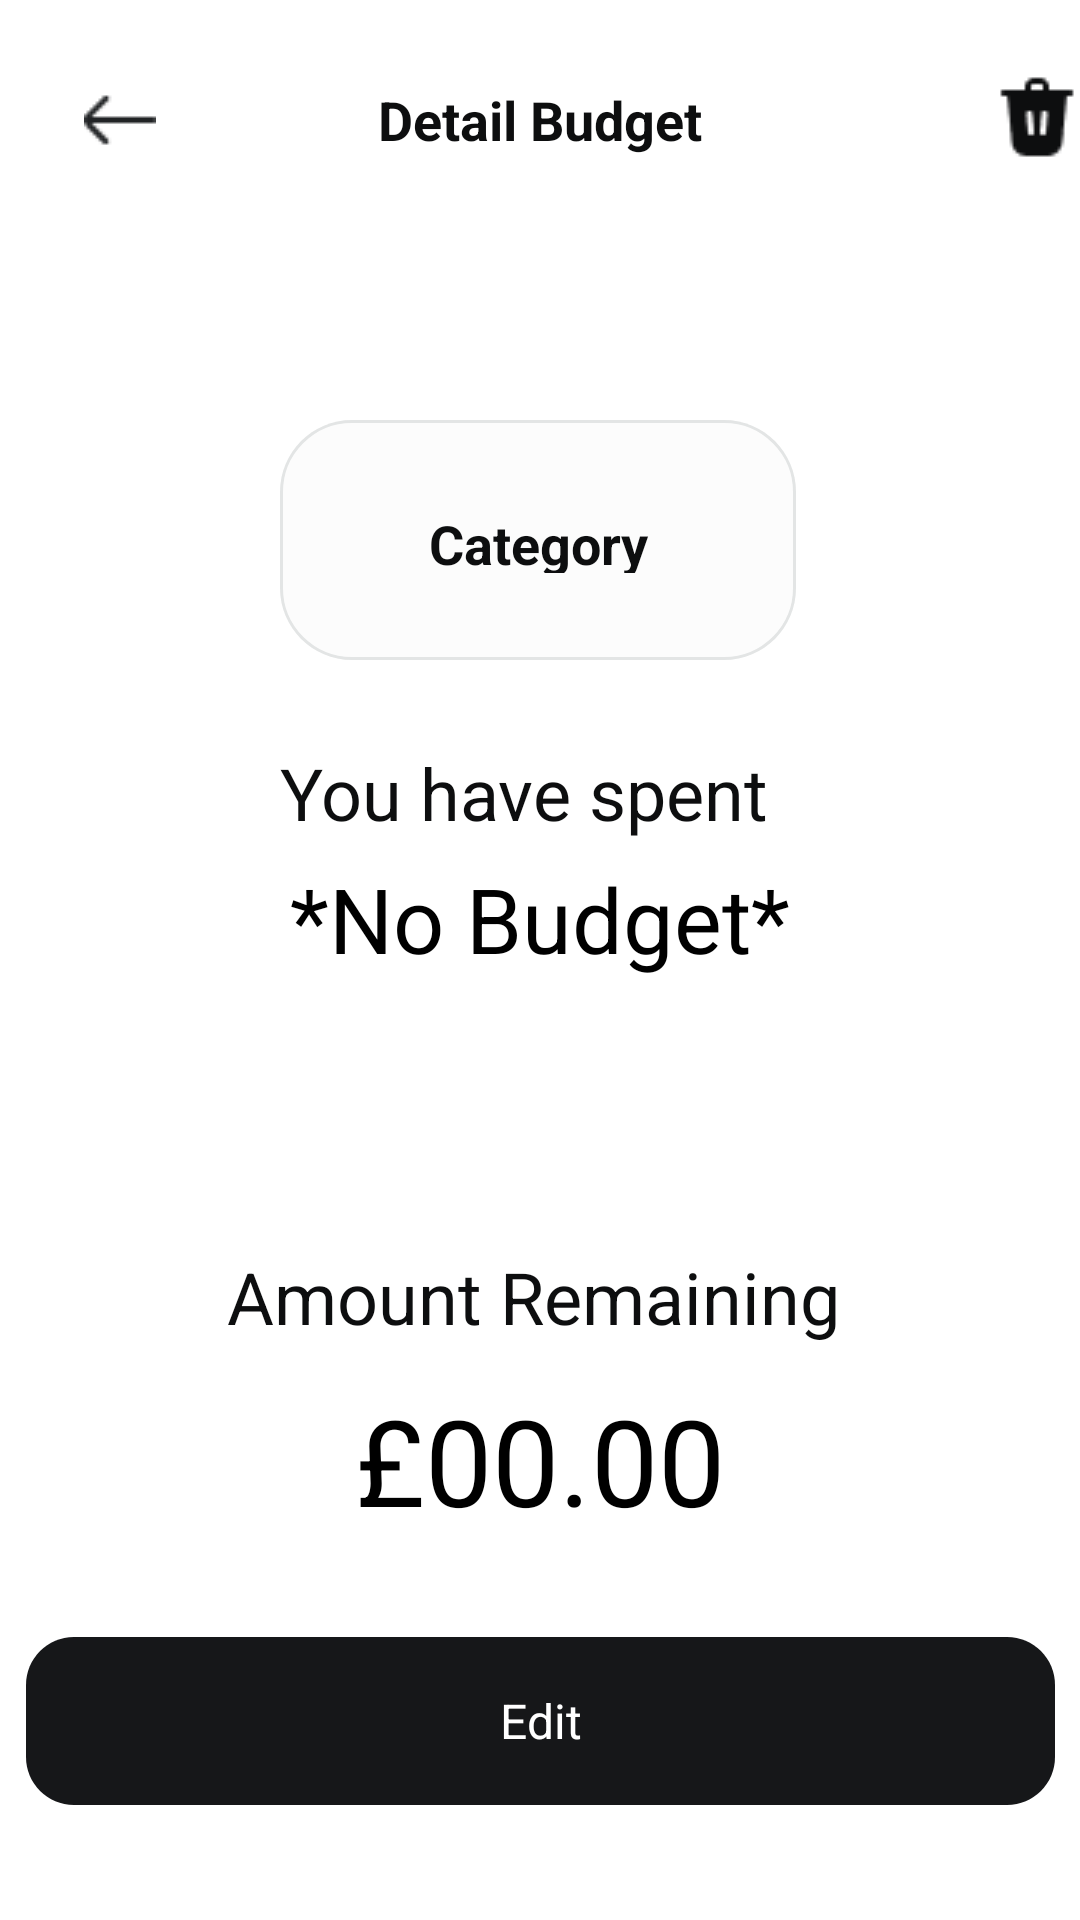

Icons on this 1080w x 1920h Android screen, each with its box as [left=x1, top=y1, right=x2, bottom=y2]:
back arrow: [left=84, top=95, right=156, bottom=145]
trash: [left=1000, top=77, right=1074, bottom=157]
